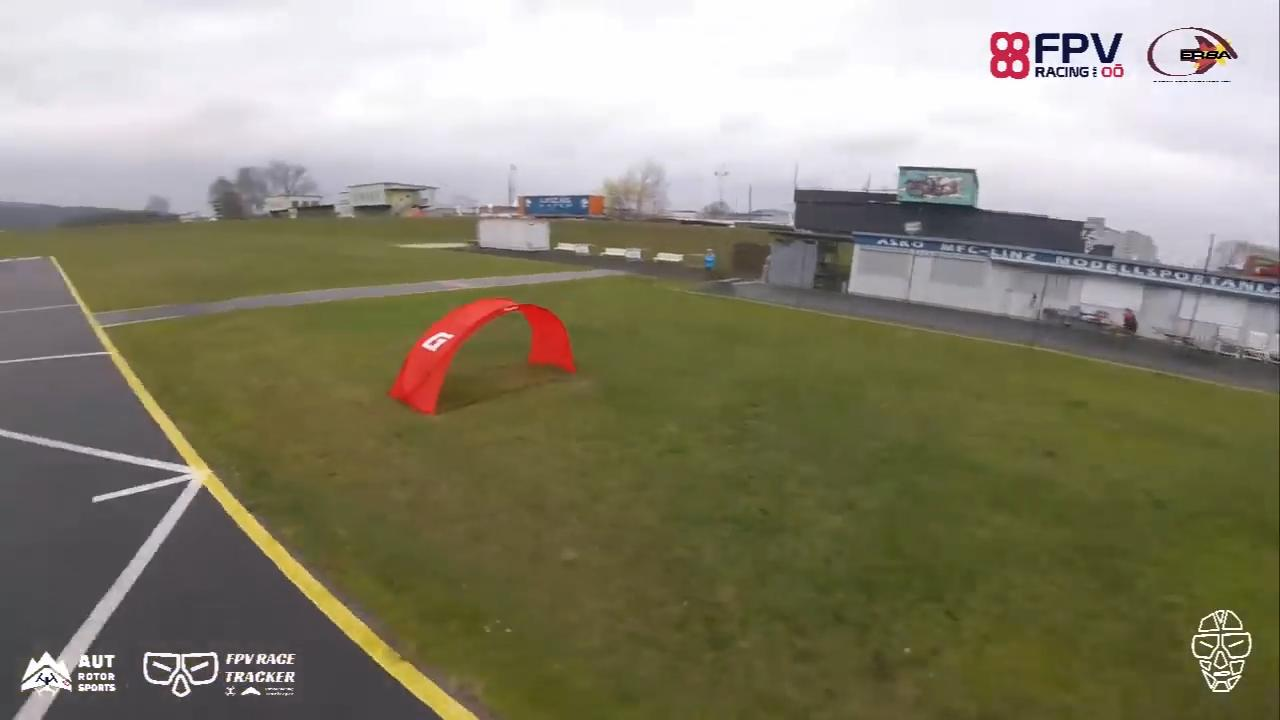gate: (386, 296, 575, 415)
